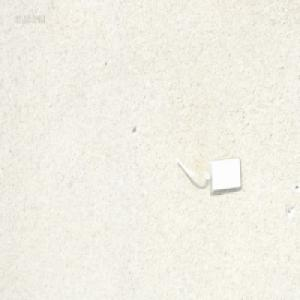LuggageTag: (171, 153, 241, 195)
